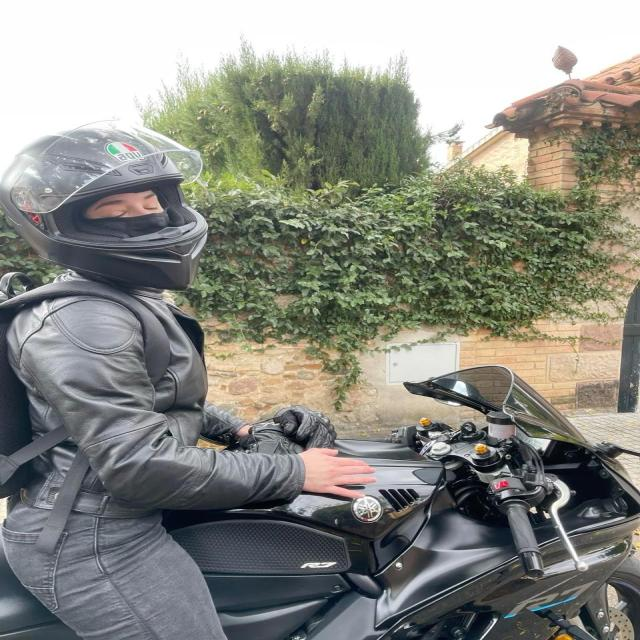5_casco: (2, 121, 224, 296)
